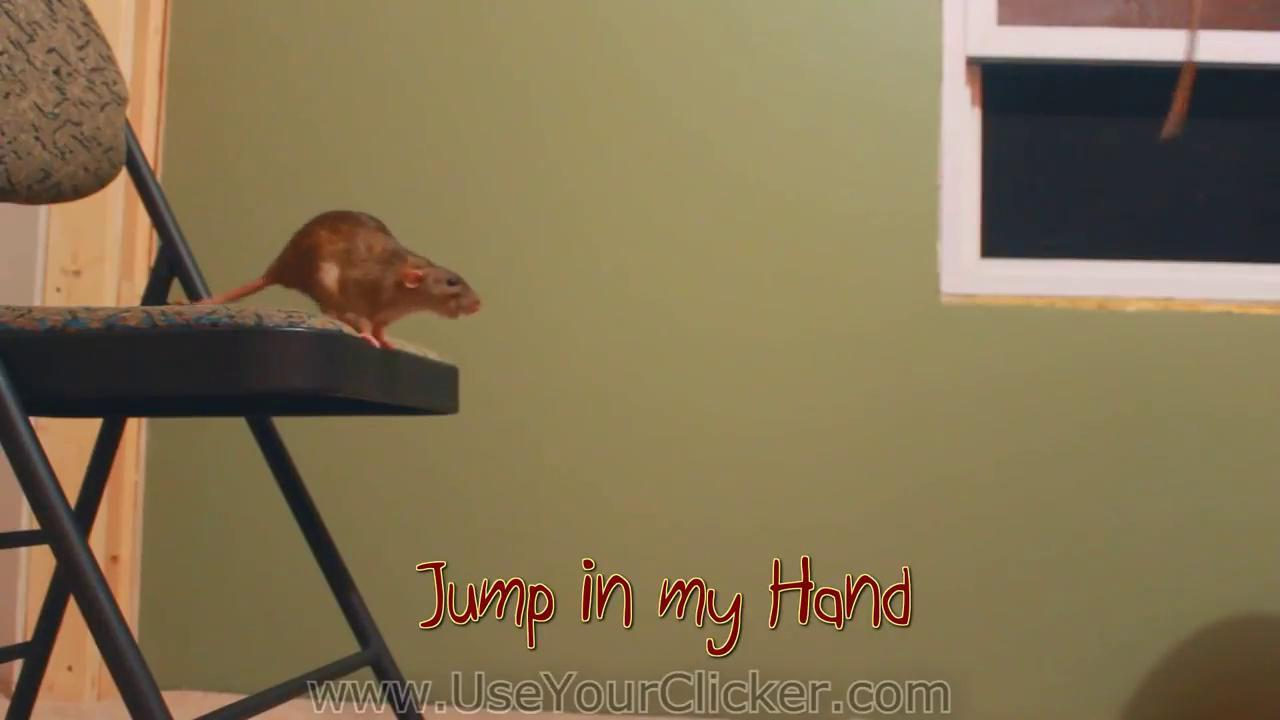rat: (206, 205, 479, 353)
